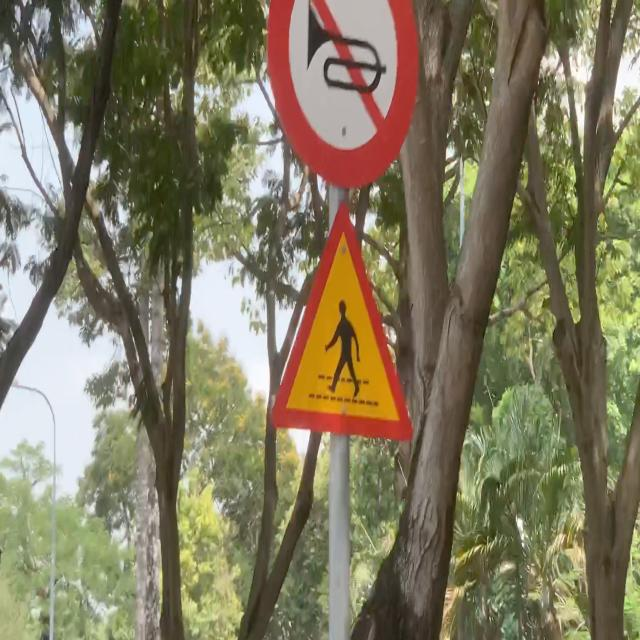Cam con lai: (265, 0, 420, 191)
Nguoi di bo cat ngang: (266, 196, 417, 448)
